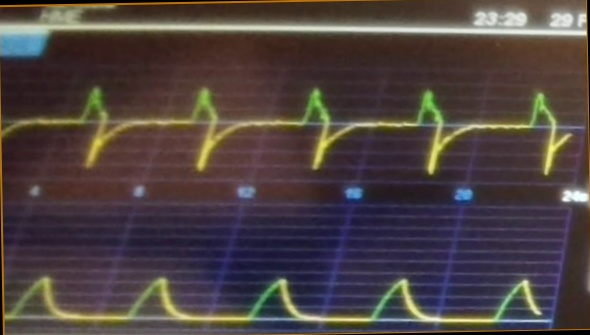Accumulation Flow: (4, 76, 572, 182)
Volume: (7, 260, 544, 328)
